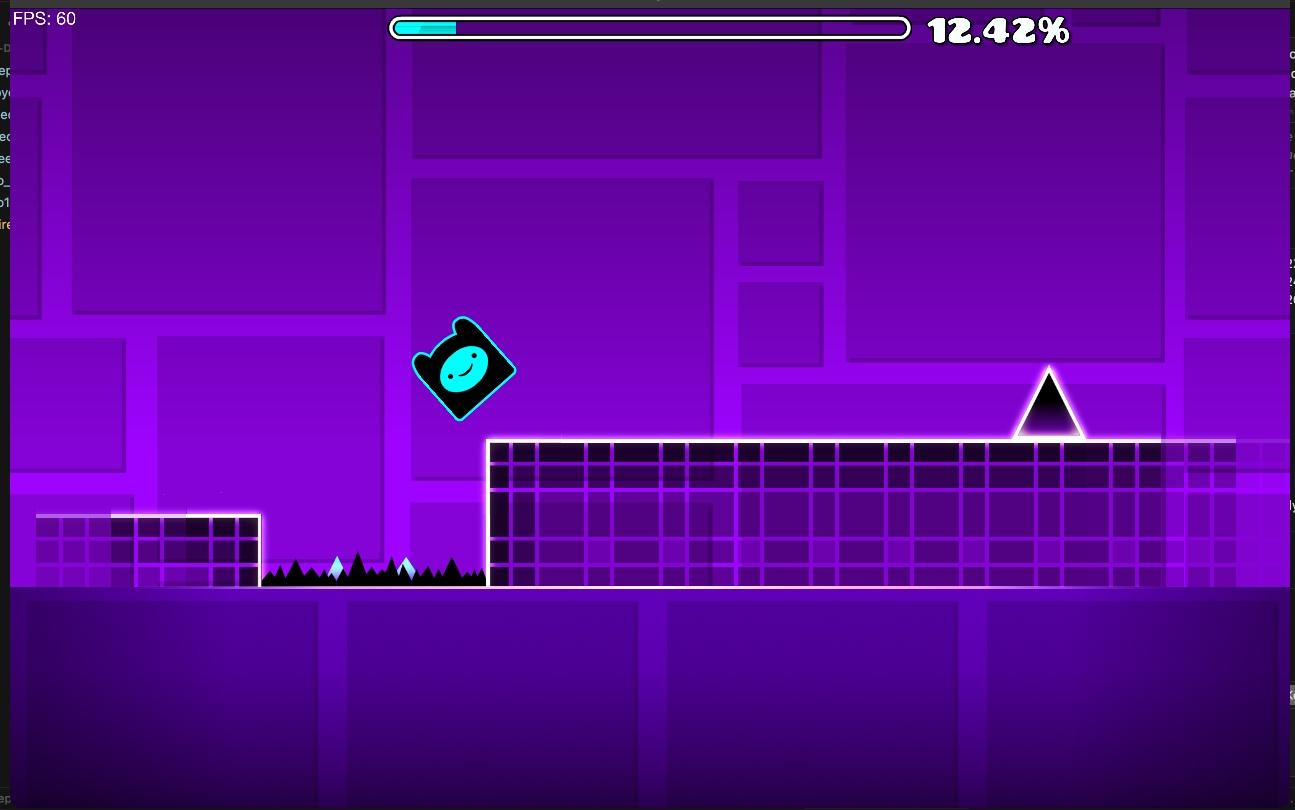block: (487, 440, 1232, 589), (106, 513, 260, 587)
player: (412, 317, 515, 420)
spike: (263, 554, 484, 586), (1013, 366, 1083, 438)
